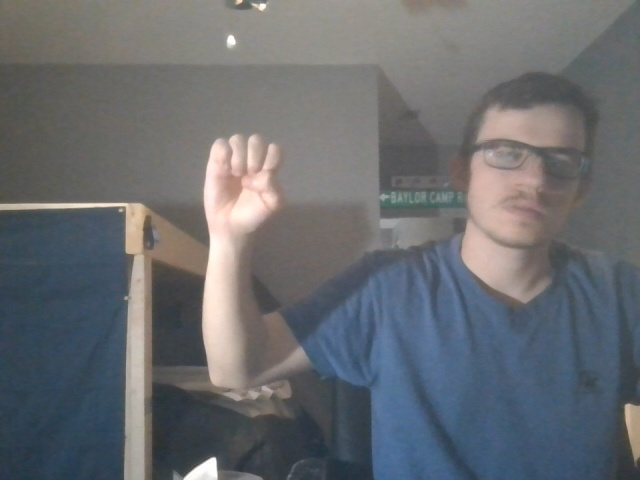E: (185, 123, 297, 255)
